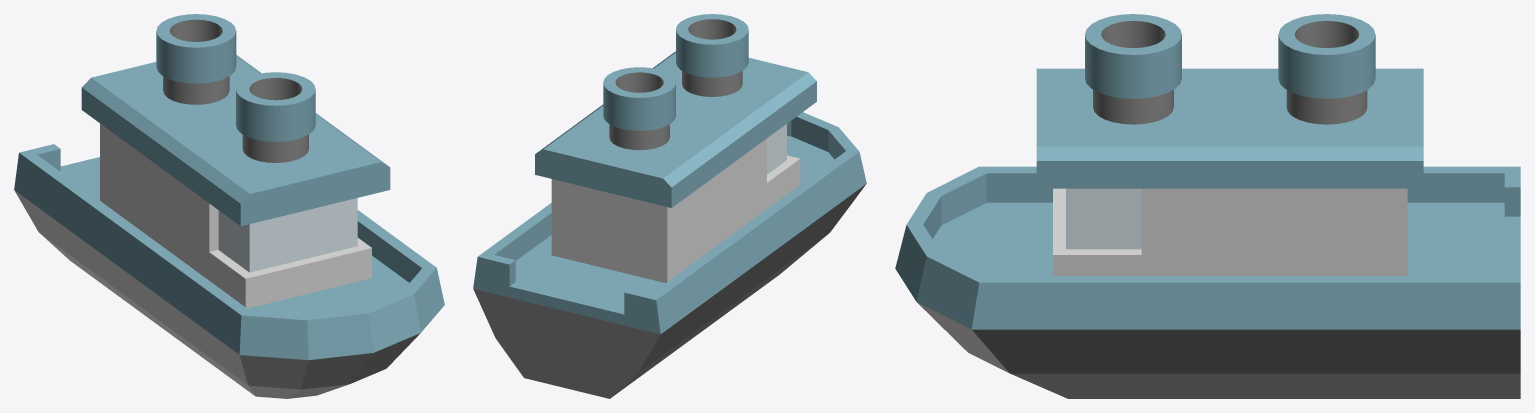
File: watercraftPack_023.glb
3 views of the same model, side by side, from view 1: azimuth 30°, elevation 25°; view 2: azimuth 150°, elevation 25°; view 3: azimuth 270°, elevation 25° (orthographic). The views are drawn at different scales.
Parts seen in each view (by area): view 1: Mesh1 Group1 Model; view 2: Mesh1 Group1 Model; view 3: Mesh1 Group1 Model.
Boxes of the visible parts, box(x1,y1,x2,y2) form: Mesh1 Group1 Model: box(14, 14, 444, 398); Mesh1 Group1 Model: box(473, 14, 866, 398); Mesh1 Group1 Model: box(895, 14, 1520, 398).
Size of the model in its own units: 2.59 by 3.33 by 5.61.
